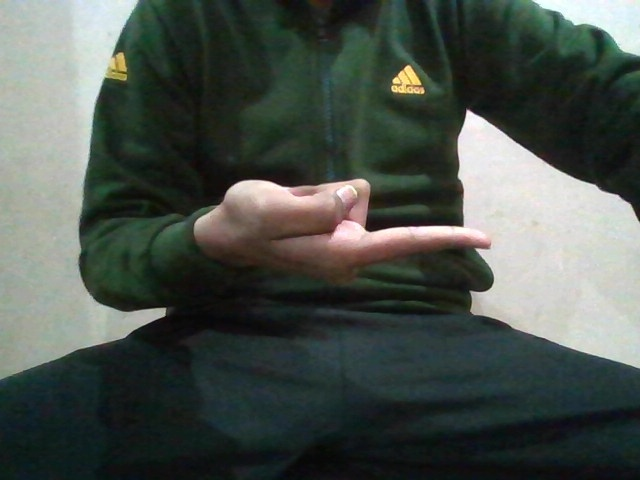X: (199, 172, 498, 285)
